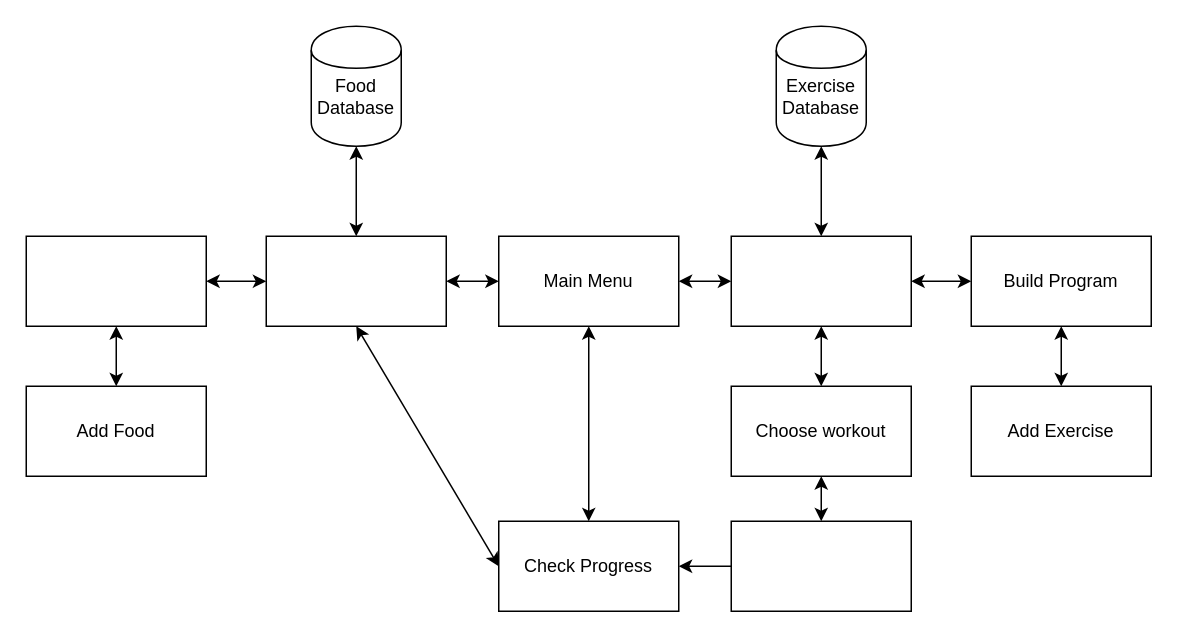
Some shapes in this 1178 by 638 pixel diagram are drawn without their labels. Each missing label, with the box of its shape:
Add Meal: (25, 235, 206, 326)
Meal Log: (265, 235, 446, 326)
Program List: (730, 235, 911, 326)
Workout Tracker: (730, 520, 911, 611)
